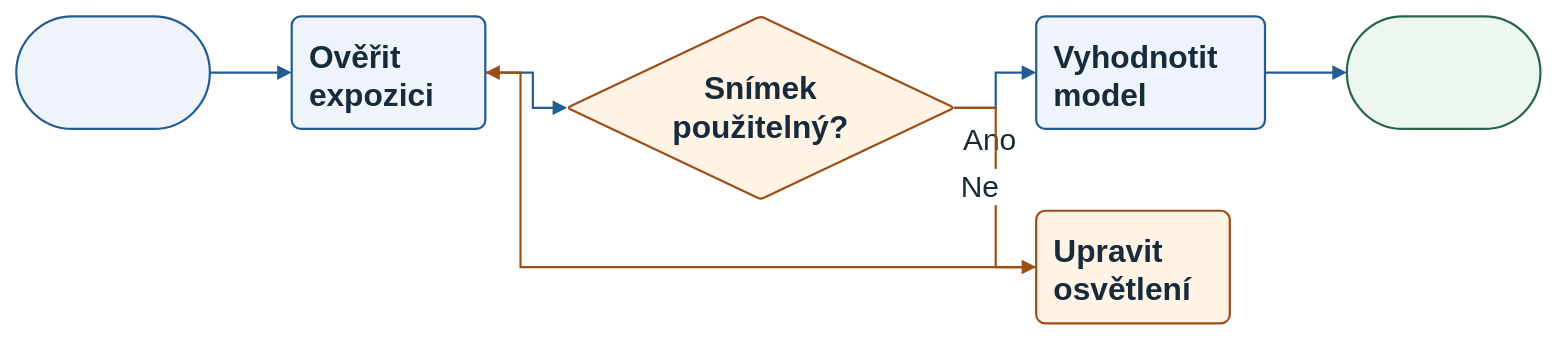
Image size: 1557x340. Some labels were removed from this diagram. The box of each missing label's shape, as (x1, y1, x2, y2) in pixels:
Přijmout snímek: (15, 15, 211, 130)
Uložit výsledek: (1345, 15, 1541, 130)
